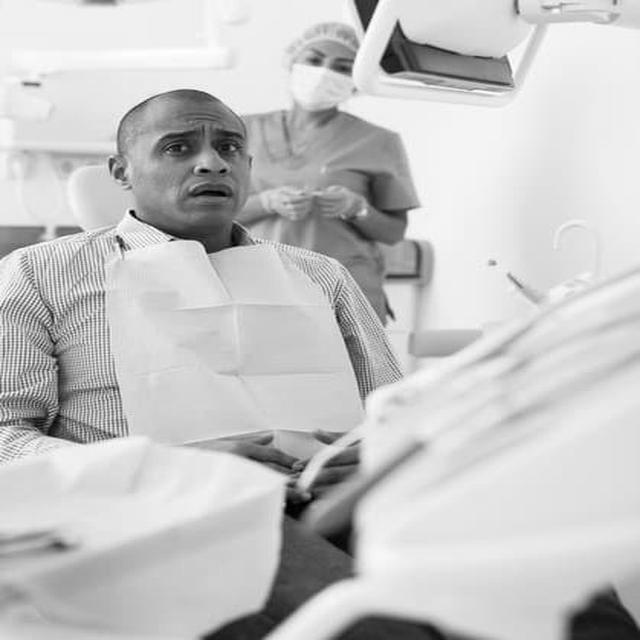Fear: (150, 105, 248, 230)
